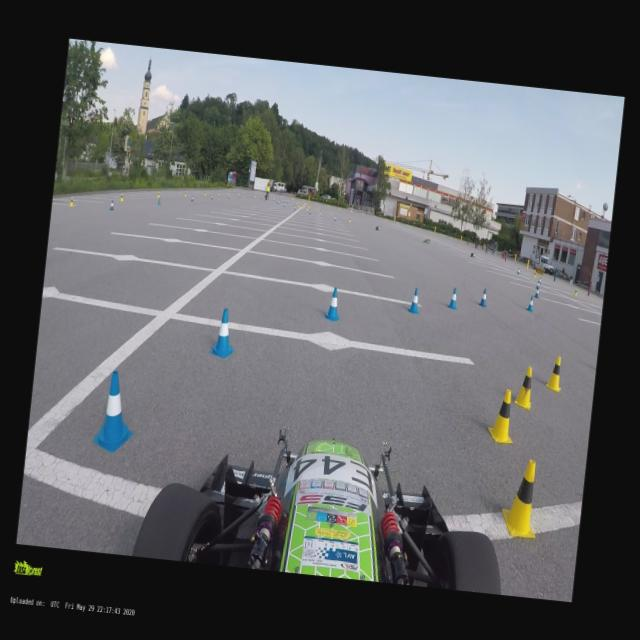blue_cone: (90, 368, 138, 454), (210, 308, 236, 356), (325, 286, 341, 320), (407, 286, 421, 314), (446, 287, 458, 308), (478, 288, 488, 306), (526, 296, 534, 312), (533, 286, 539, 298), (534, 278, 540, 290), (108, 200, 114, 210), (537, 276, 542, 286), (516, 267, 520, 275), (472, 252, 476, 258), (190, 194, 193, 202), (308, 208, 312, 214), (210, 194, 213, 200), (334, 214, 336, 220)
yellow_cone: (502, 458, 542, 538), (487, 388, 516, 444), (514, 364, 534, 410), (544, 354, 564, 392), (68, 195, 74, 208), (119, 193, 123, 202), (532, 270, 536, 278), (156, 191, 160, 198), (574, 288, 577, 296), (318, 208, 322, 214), (348, 216, 351, 222), (183, 190, 186, 196), (202, 190, 205, 195)
